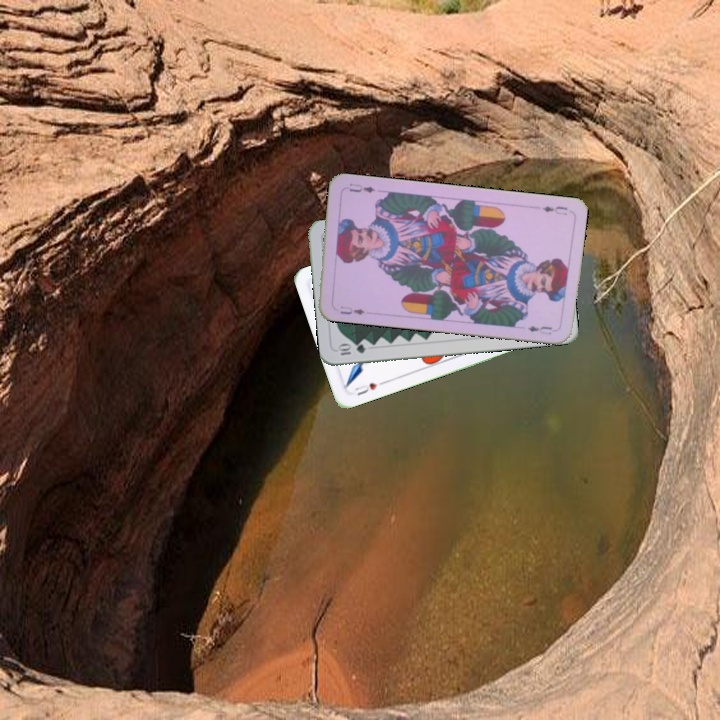EU: (538, 201, 570, 217), (336, 302, 367, 317)
G10: (334, 340, 368, 358)
HU: (351, 377, 387, 398)
